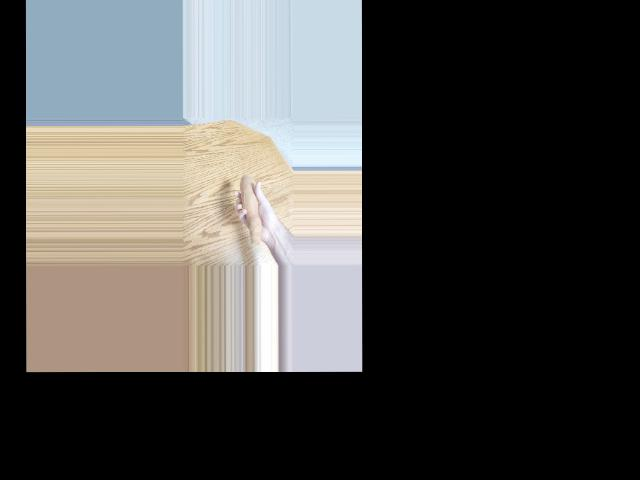sweet_potato: (238, 173, 268, 251)
